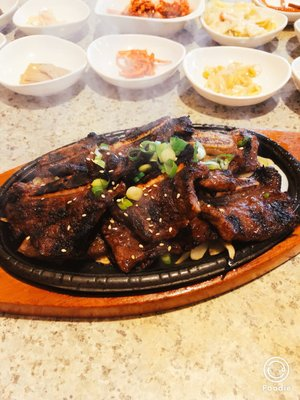sushi: (181, 45, 292, 107), (0, 34, 88, 110), (86, 33, 187, 91), (93, 0, 206, 39), (200, 0, 288, 48), (11, 0, 92, 43), (252, 0, 300, 30)
